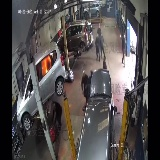fire: (39, 54, 52, 74)
